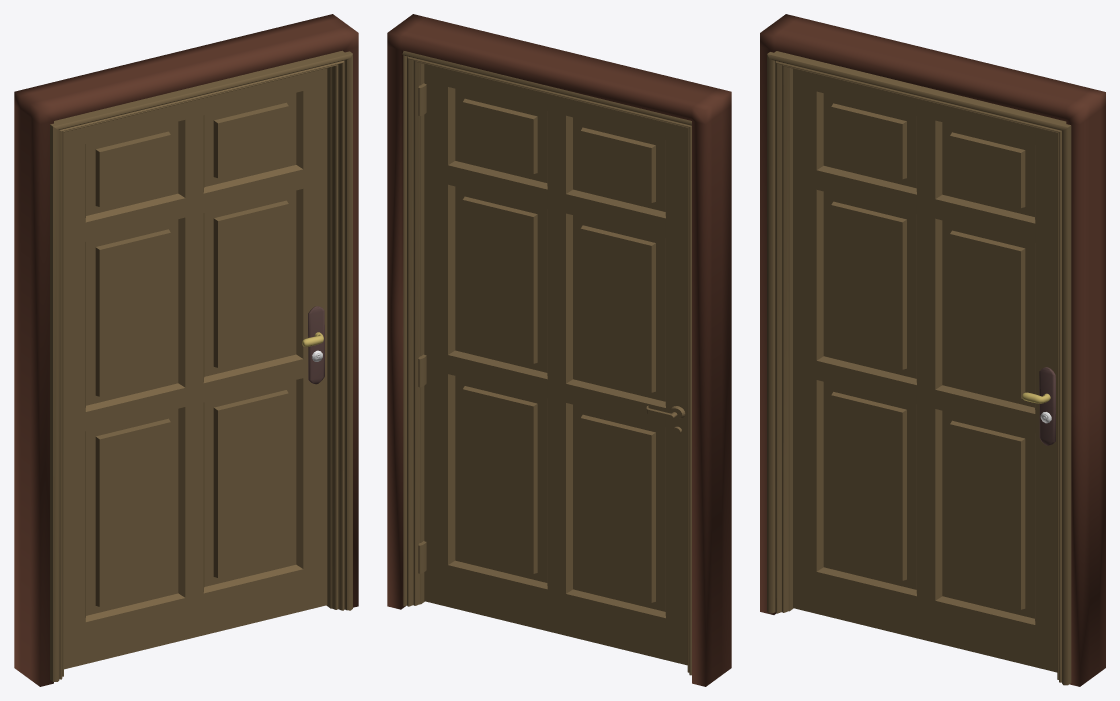
Rendered from thedoors.gltf.
3 views of the same model, side by side, from view 1: azimuth 30°, elevation 25°; view 2: azimuth 150°, elevation 25°; view 3: azimuth 330°, elevation 25° (orthographic).
Visible parts, largest first — view 1: 10057_wooden_door_v3_iterations-2, OutBoddy_Cube.002, Locker.001_Cube.004; view 2: 10057_wooden_door_v3_iterations-2, OutBoddy_Cube.002; view 3: 10057_wooden_door_v3_iterations-2, OutBoddy_Cube.002, Locker.001_Cube.004.
Boxes of the visible parts, box(x1,y1,x2,y2) form: 10057_wooden_door_v3_iterations-2: box(50, 50, 352, 681); OutBoddy_Cube.002: box(14, 14, 358, 686); Locker.001_Cube.004: box(308, 306, 324, 384); 10057_wooden_door_v3_iterations-2: box(402, 51, 691, 675); OutBoddy_Cube.002: box(387, 14, 731, 686); 10057_wooden_door_v3_iterations-2: box(767, 51, 1071, 685); OutBoddy_Cube.002: box(760, 14, 1105, 686); Locker.001_Cube.004: box(1039, 367, 1055, 445).
Bounding box in the file's own units: 7.66 × 13.26 × 1.25.
